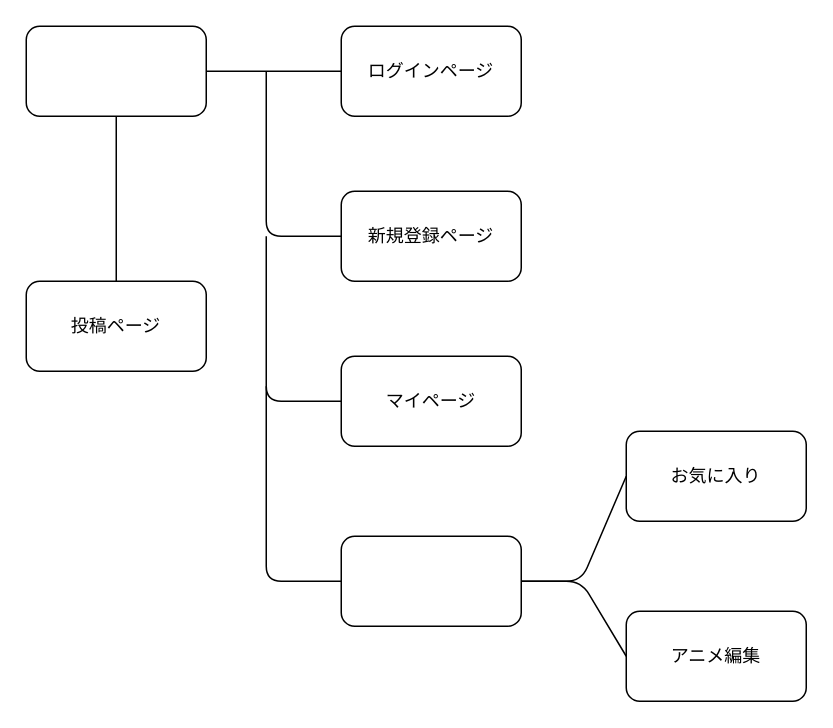
Image size: 833x728. Some labels were removed from this diagram. The centre of each missing label's shape, as x and y in pixels:
アニメ一覧ページ: pixel 115 70
アニメ詳細: pixel 430 580
